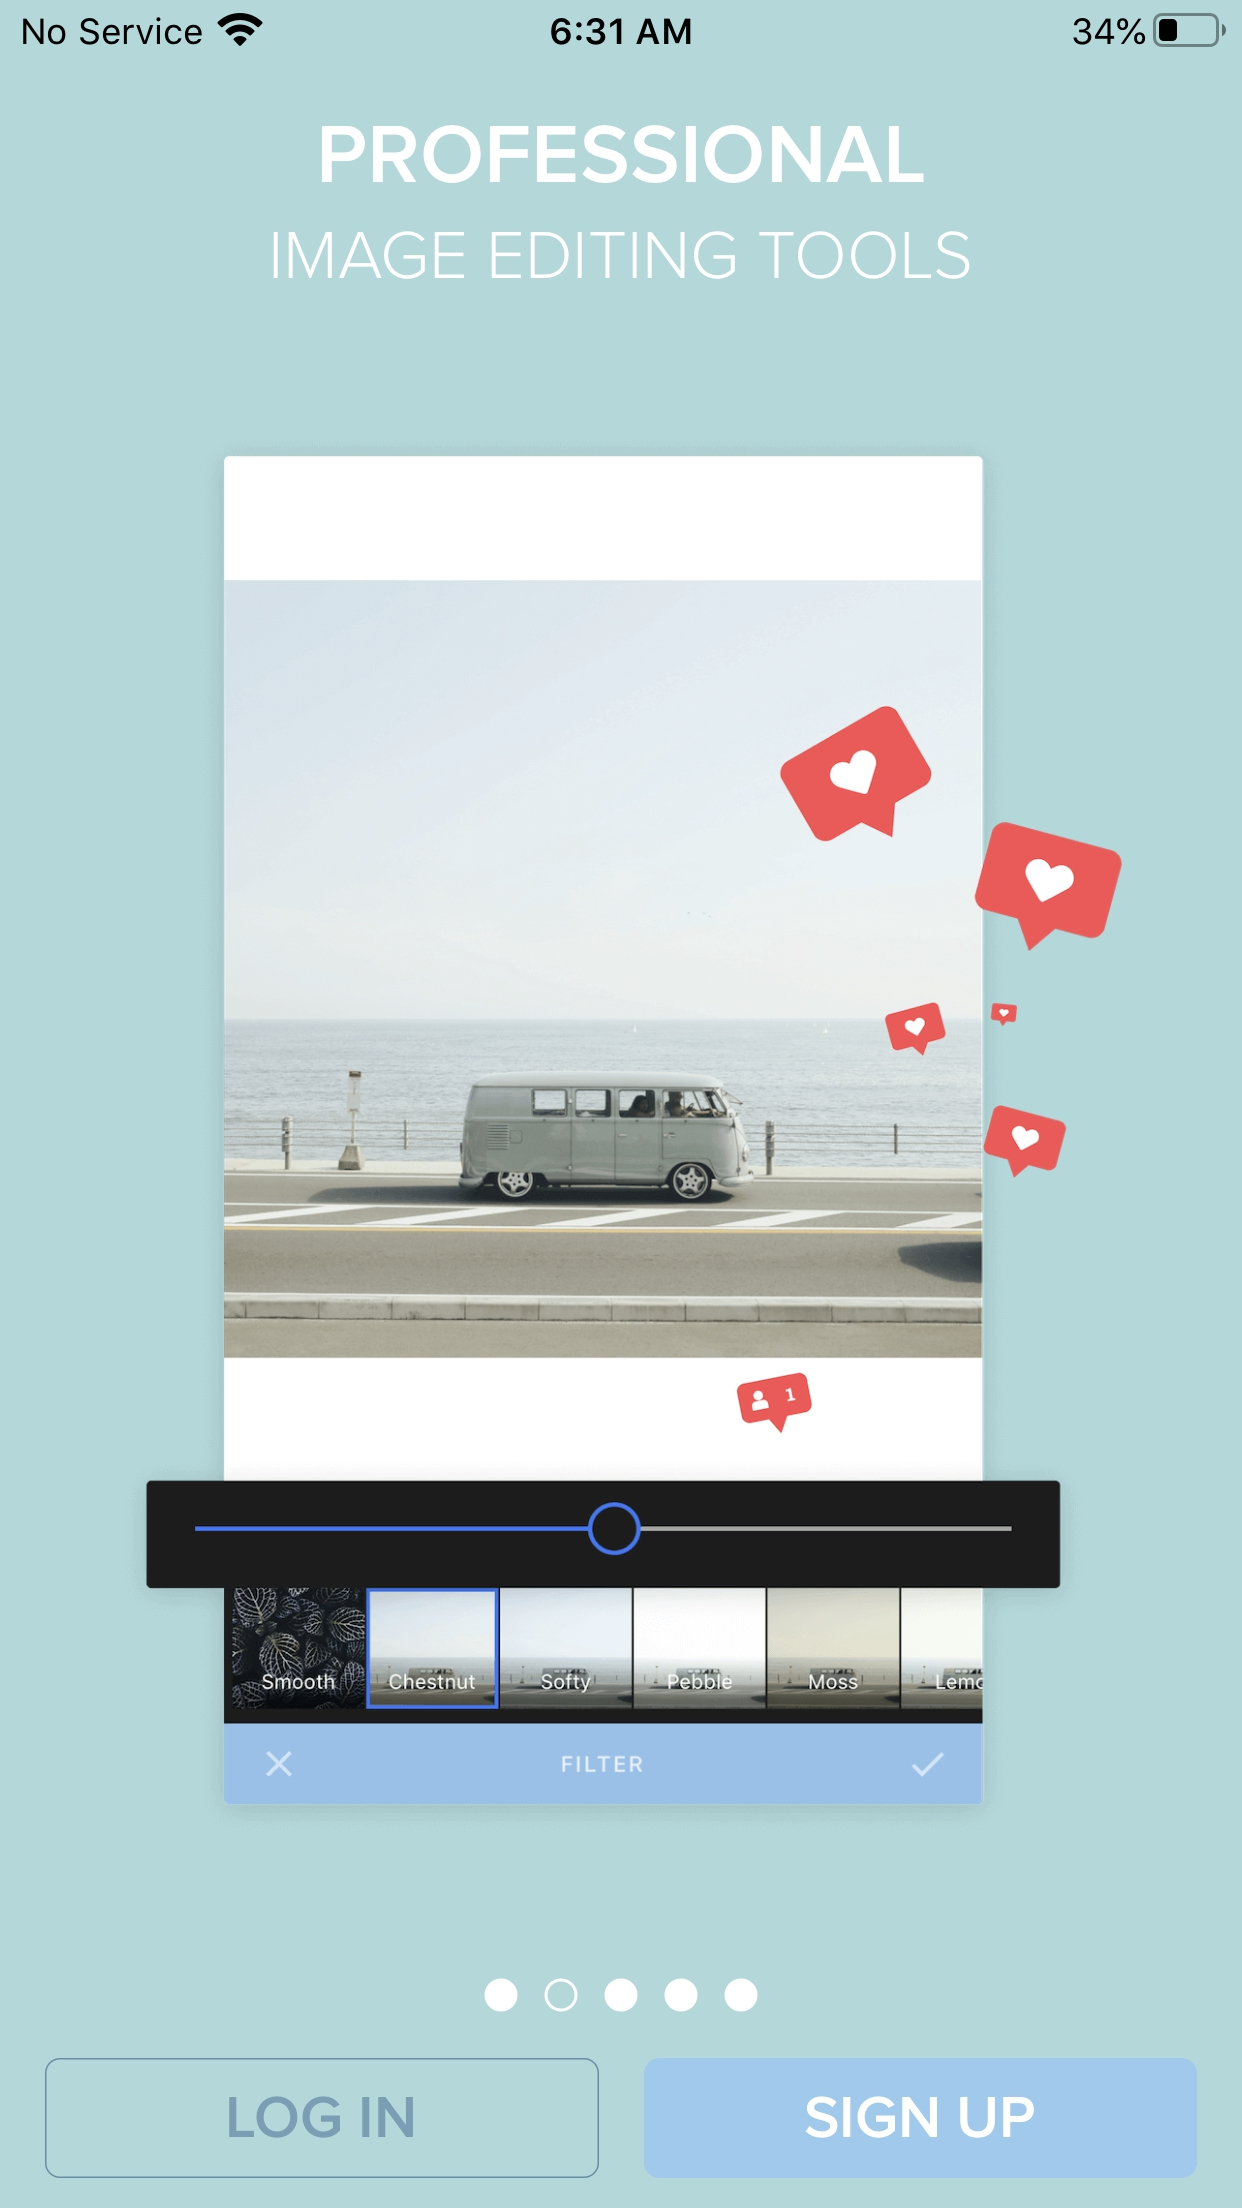Image: (146, 456, 1122, 1805)
PageIndicator: (484, 1977, 758, 2012)
Text: (321, 124, 924, 183), (273, 231, 971, 279)
TextButton: (645, 2056, 1197, 2178), (45, 2058, 599, 2178)
UpperTaskBar: (2, 2, 1242, 49)
